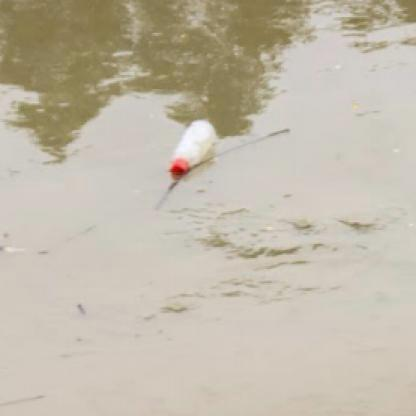Plastic: (168, 117, 223, 180)
